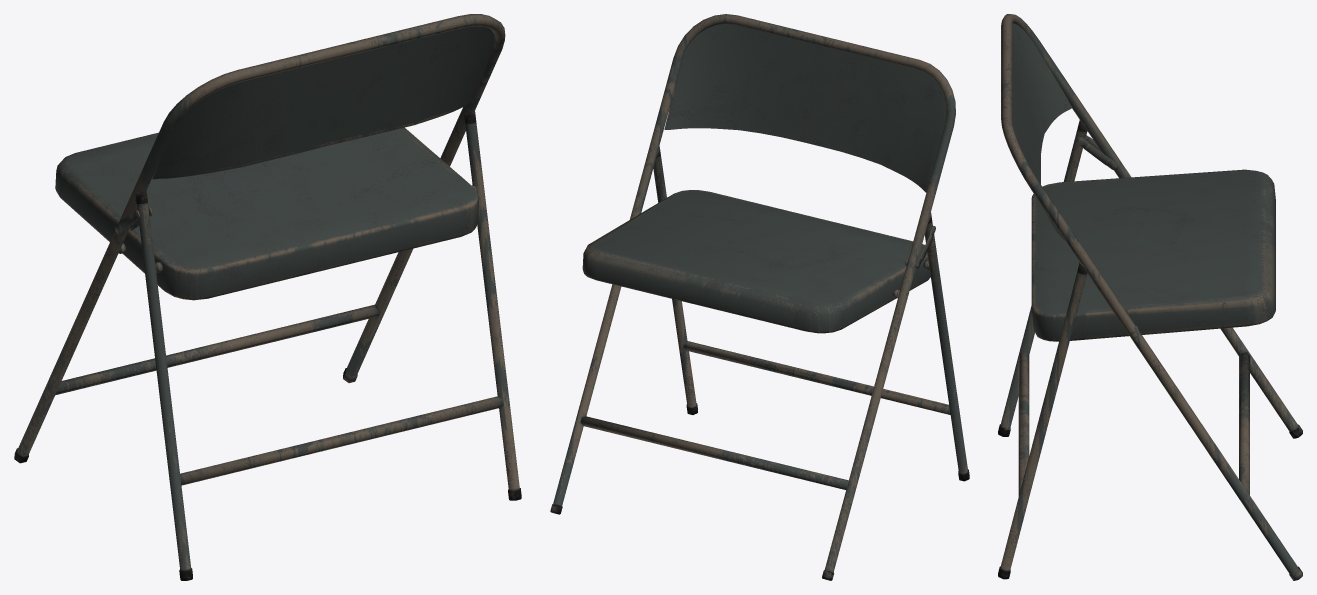
The picture shows the model from 3 angles, left to right: view 1: azimuth 30°, elevation 25°; view 2: azimuth 150°, elevation 25°; view 3: azimuth 270°, elevation 25°; orthographic projection. The views are drawn at different scales.
Visible parts, largest first — view 1: metal_chair; view 2: metal_chair; view 3: metal_chair.
Part boxes in pixels (left/top/right/bottom): metal_chair: left=14, top=14, right=521, bottom=580; metal_chair: left=550, top=14, right=969, bottom=580; metal_chair: left=998, top=14, right=1302, bottom=580.
Bounding box in the file's own units: 0.2728 × 0.3779 × 0.237.
1 material, 1 textured.
